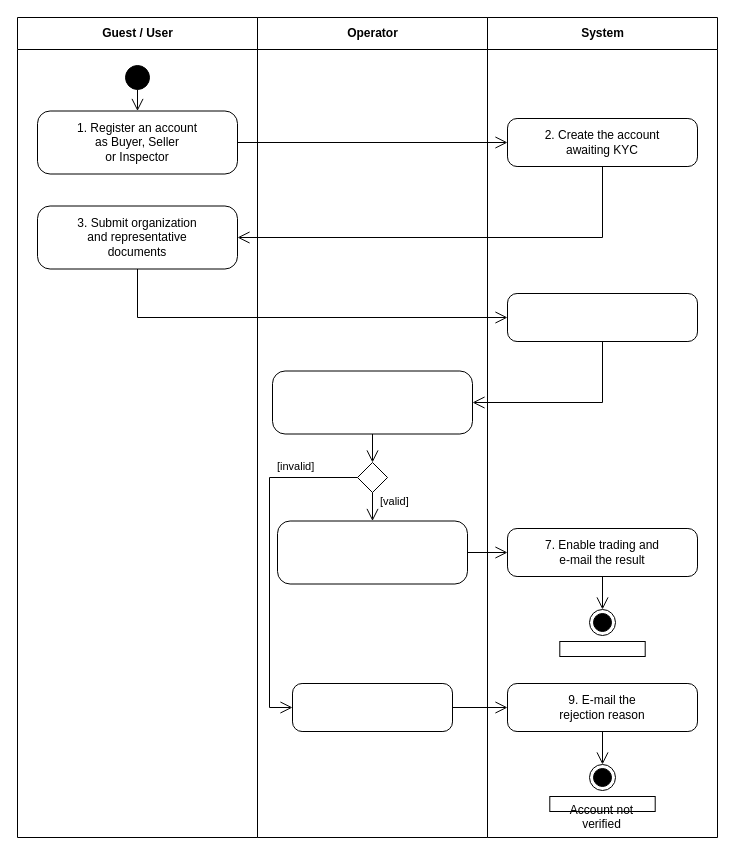
The diagram is 735 pixels wide and 855 high, and some of its shapes have lost their labels. Here are the shapes that lost their labels. From the top down, the centre of each, then its label:
At (602,317): "4. Add the profile to the KYC review queue".
At (372,402): "5. Check the documents and the authority to represent".
At (372,552): "6. Verify KYC and enter the authorization expiry".
At (602,648): "Account verified".
At (372,707): "8. Reject with a reason".
